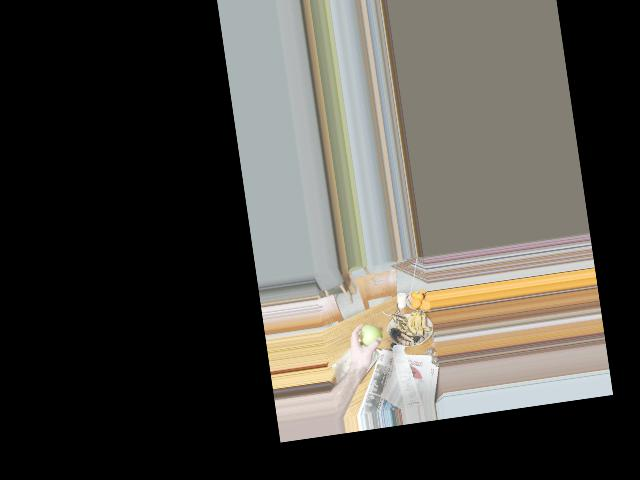apple: (359, 323, 379, 349)
